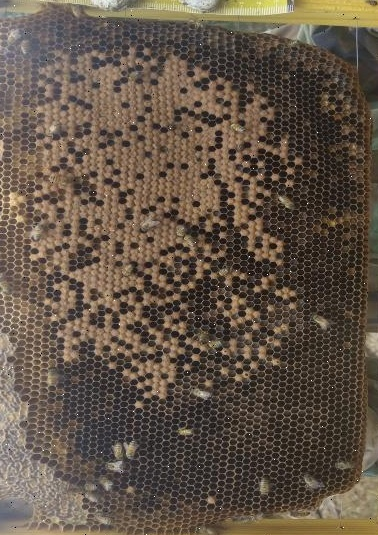cria: (9, 47, 319, 416)
